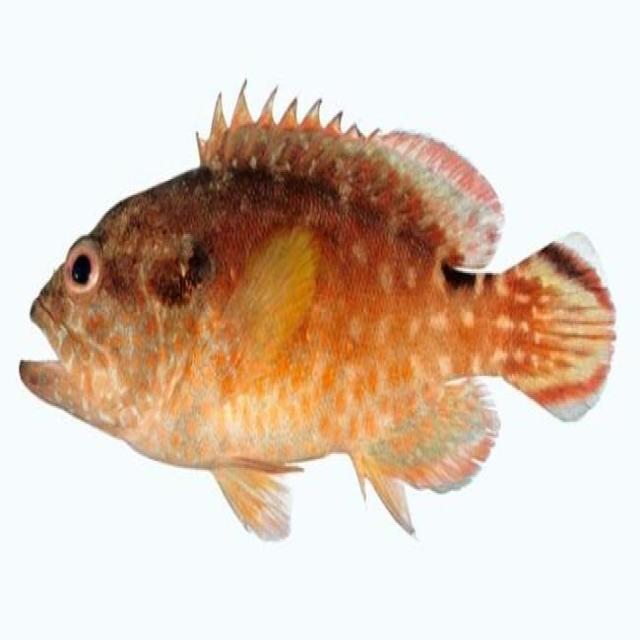ikan: (18, 76, 616, 543)
